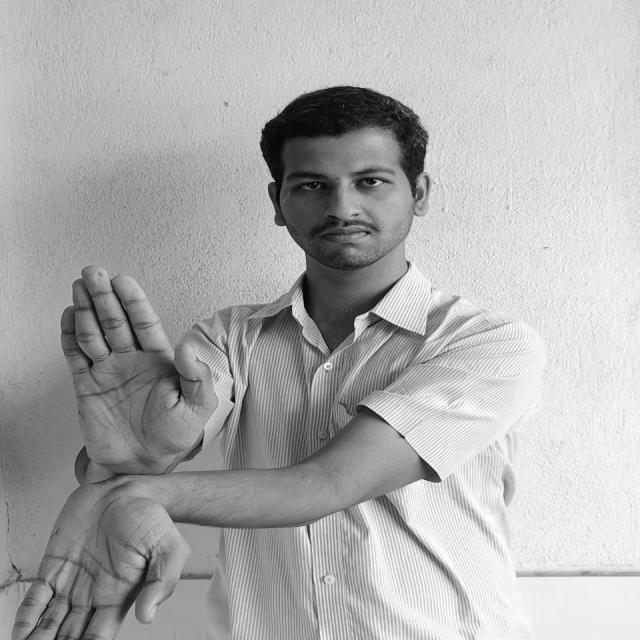Morning: (9, 264, 218, 640)
